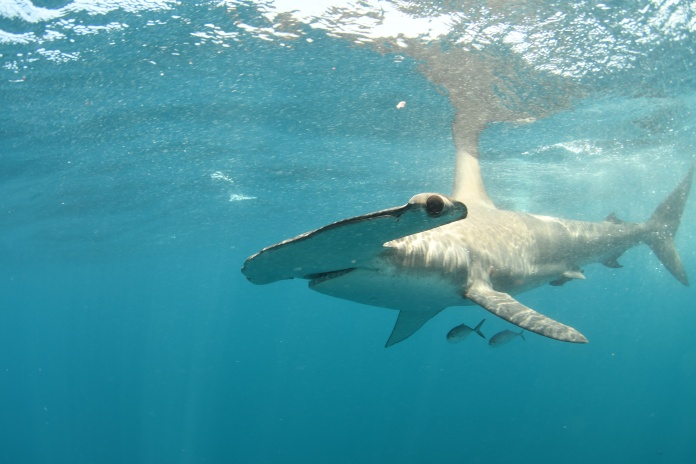Hammer: (233, 143, 696, 376)
